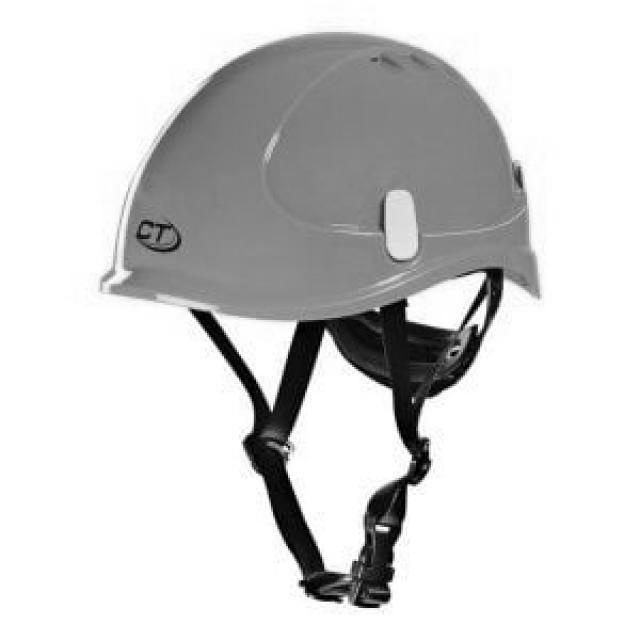construction helmet: (100, 34, 542, 324)
